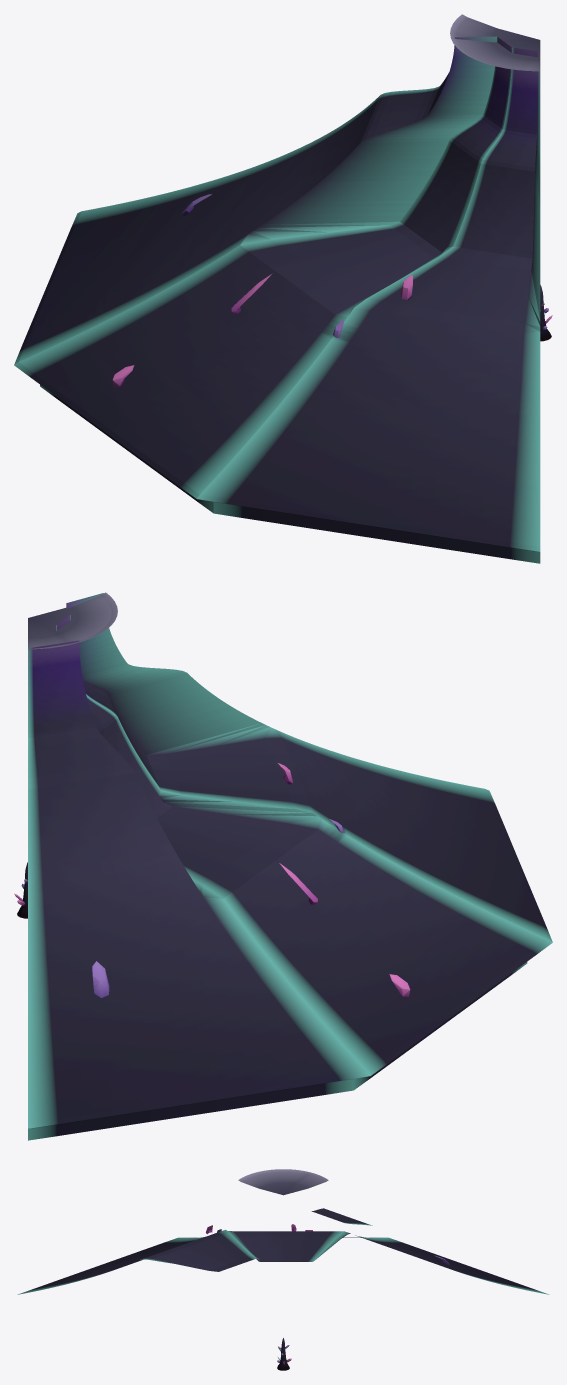
File: caverns-s3-BqeZ8L4e.glb
The picture shows the model from 3 angles, top to bottom: view 1: azimuth 30°, elevation 25°; view 2: azimuth 150°, elevation 25°; view 3: azimuth 270°, elevation 25°; orthographic projection. The views are drawn at different scales.
Visible parts, largest first — view 1: sc_landmark_1; view 2: sc_landmark_1; view 3: sc_landmark_1.
Boxes of the visible parts, x1=… form: sc_landmark_1: x1=14, y1=14, x2=540, y2=563; sc_landmark_1: x1=28, y1=592, x2=552, y2=1140; sc_landmark_1: x1=17, y1=1169, x2=549, y2=1294.
Bounding box in the file's own units: 419 × 282 × 749.
